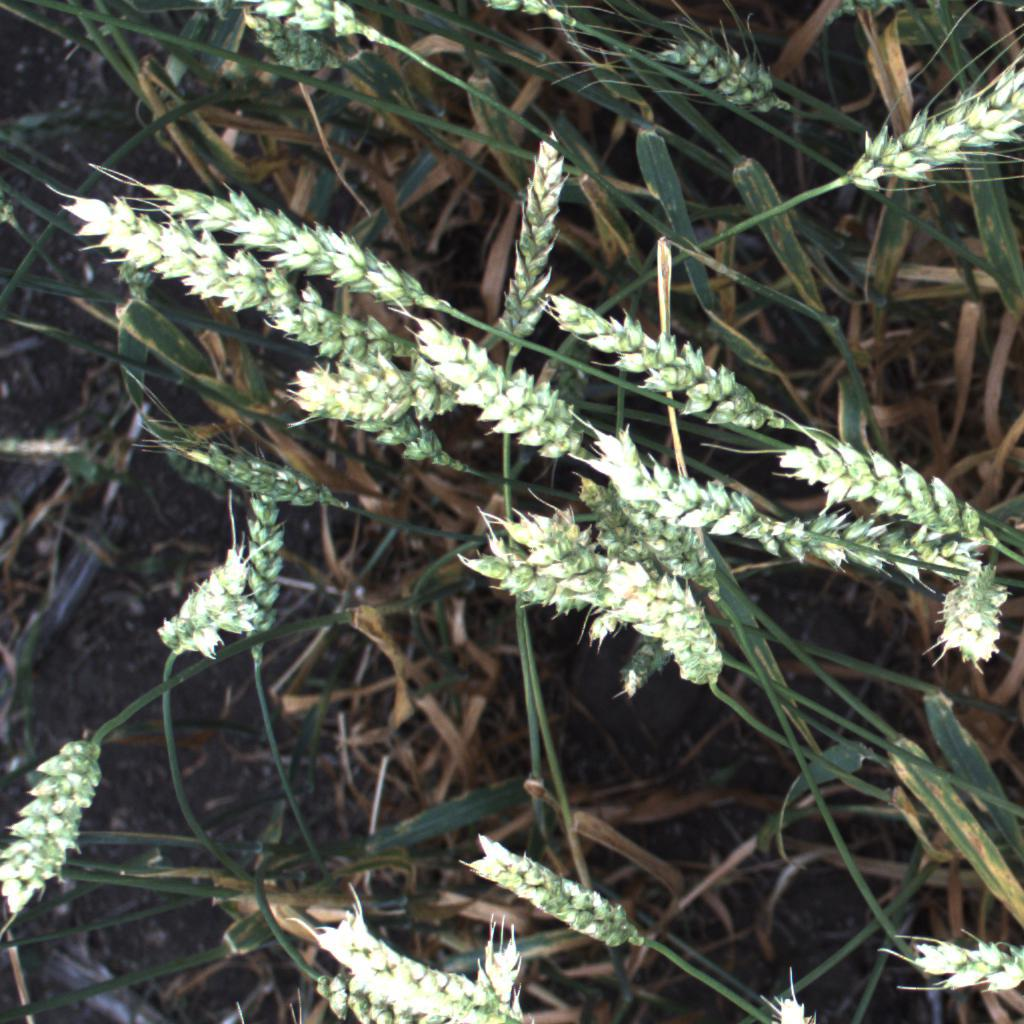0-0: (94, 161, 453, 317), (43, 175, 338, 330), (536, 281, 800, 436), (828, 6, 1024, 207), (400, 316, 611, 473), (574, 407, 785, 550), (768, 423, 1006, 548), (307, 901, 540, 1024), (435, 519, 686, 628), (128, 406, 338, 525), (465, 830, 655, 957), (0, 720, 112, 929), (488, 123, 571, 366), (597, 552, 742, 688), (756, 505, 996, 585), (331, 341, 462, 481), (629, 10, 796, 119), (269, 347, 471, 429), (154, 534, 272, 671), (882, 919, 1024, 1019), (225, 476, 295, 674), (257, 288, 412, 367), (644, 468, 733, 601), (303, 961, 476, 1024), (217, 4, 356, 81), (923, 564, 1014, 679), (462, 924, 530, 1022), (243, 0, 384, 41), (607, 633, 681, 703)
